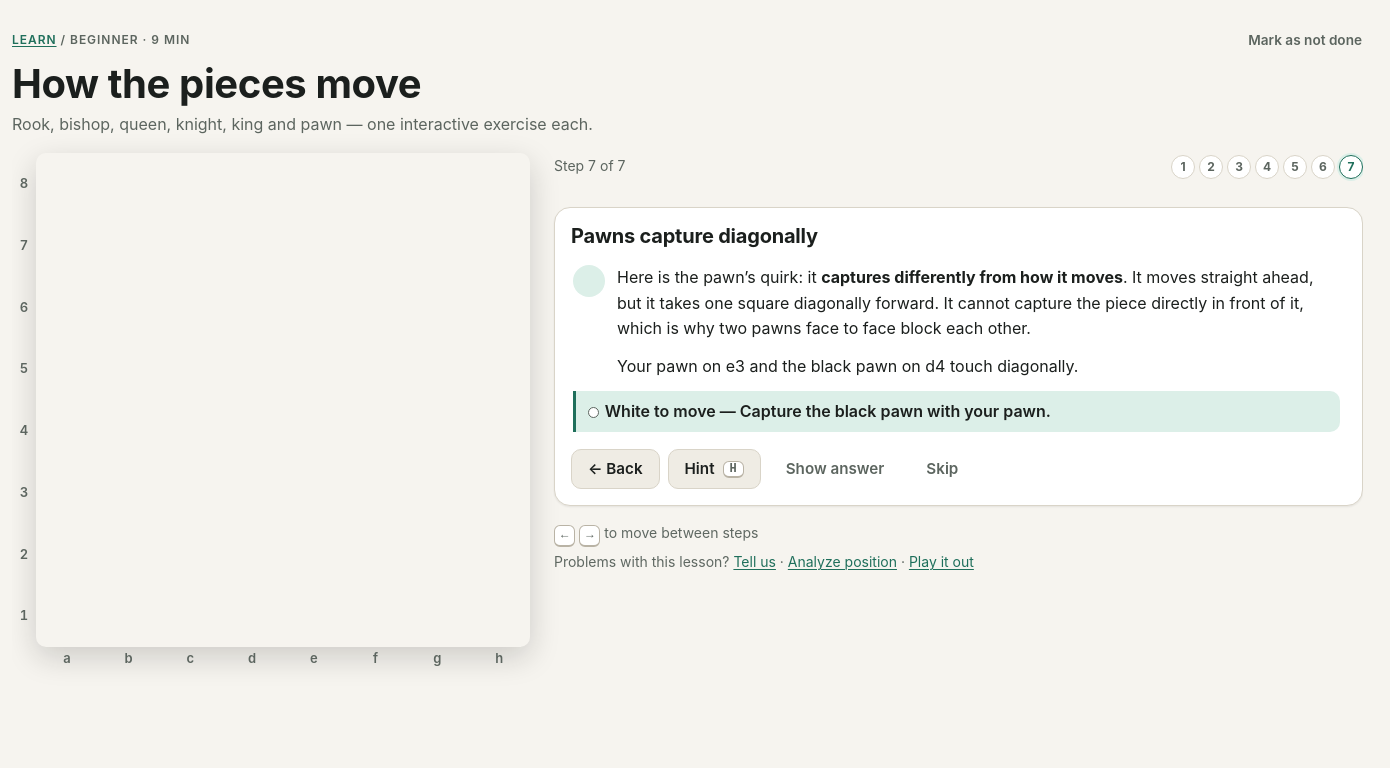
Scenario: LessonPage › says at the end that a marked lesson was only marked, and offers its steps
Click the button "Skip": (942, 469) [909,449,975,489]
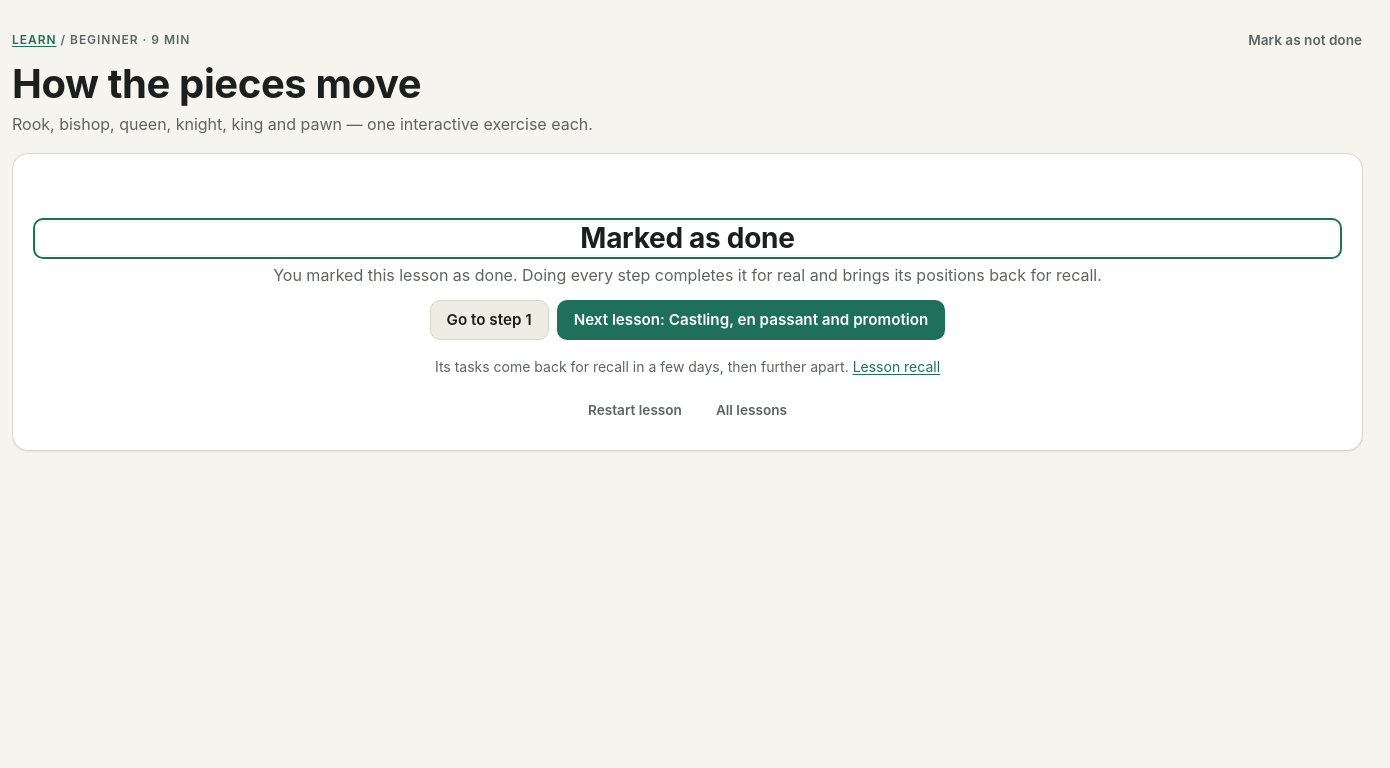
expect the heading with test id "lesson-end-title" reads "Marked as done": met, box [580,221,795,255]
expect the button "Go to step 1" is shown: met, box [430,300,549,340]
